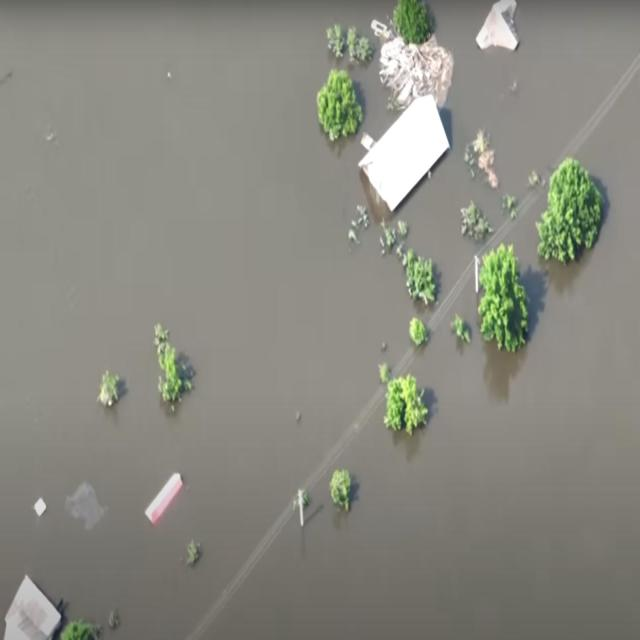flood: (206, 71, 640, 637), (0, 3, 361, 552), (81, 67, 418, 637), (392, 0, 640, 299), (0, 485, 212, 637)
house: (355, 74, 457, 235), (0, 564, 65, 640), (137, 460, 188, 531), (474, 0, 524, 62)
